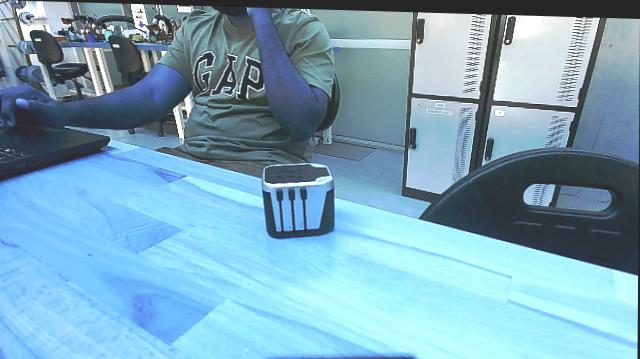adapter: (255, 158, 341, 241)
